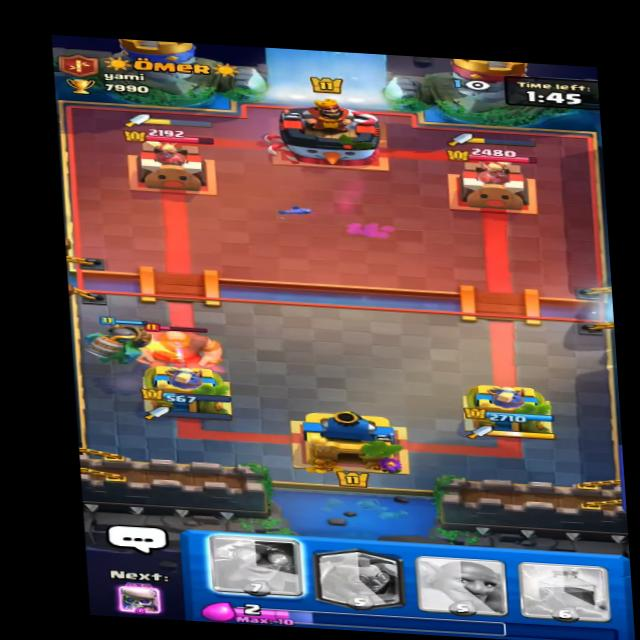giant: (122, 318, 240, 380)
